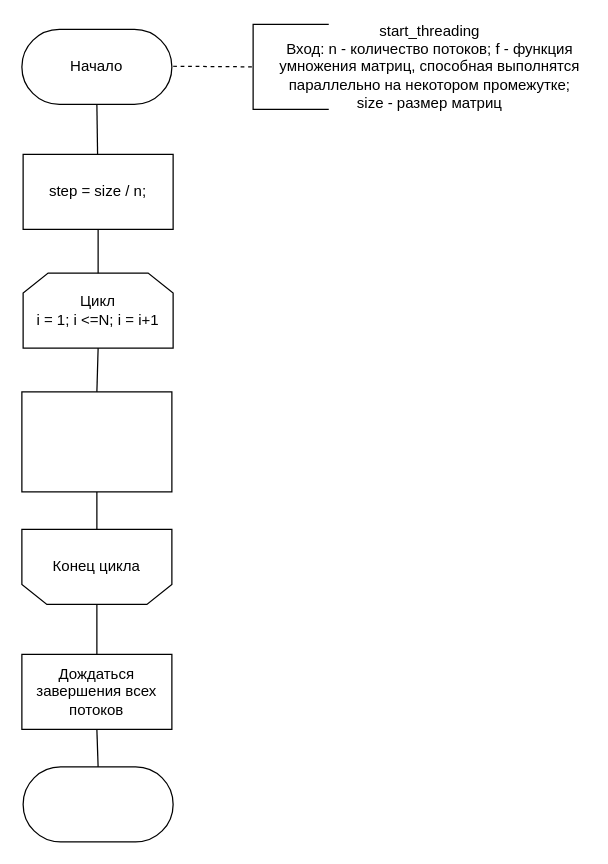
Some shapes in this 608 by 864 pixel diagram are drawn without their labels. Here are the shapes that lost their labels. From the top down, the box of each, then its label:
(21, 391, 172, 492): Выполнить в отдельном потоке функцию f на проежутке [i * step; (i + 1) * step]
(22, 766, 173, 842): Конец
